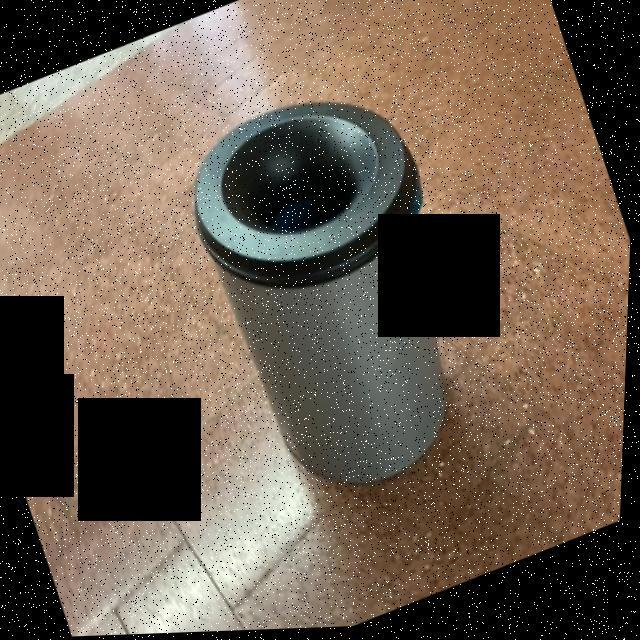bin: (136, 20, 542, 527)
